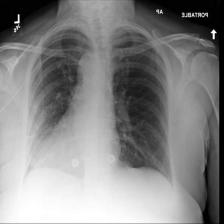normal: (21, 20, 178, 190)
